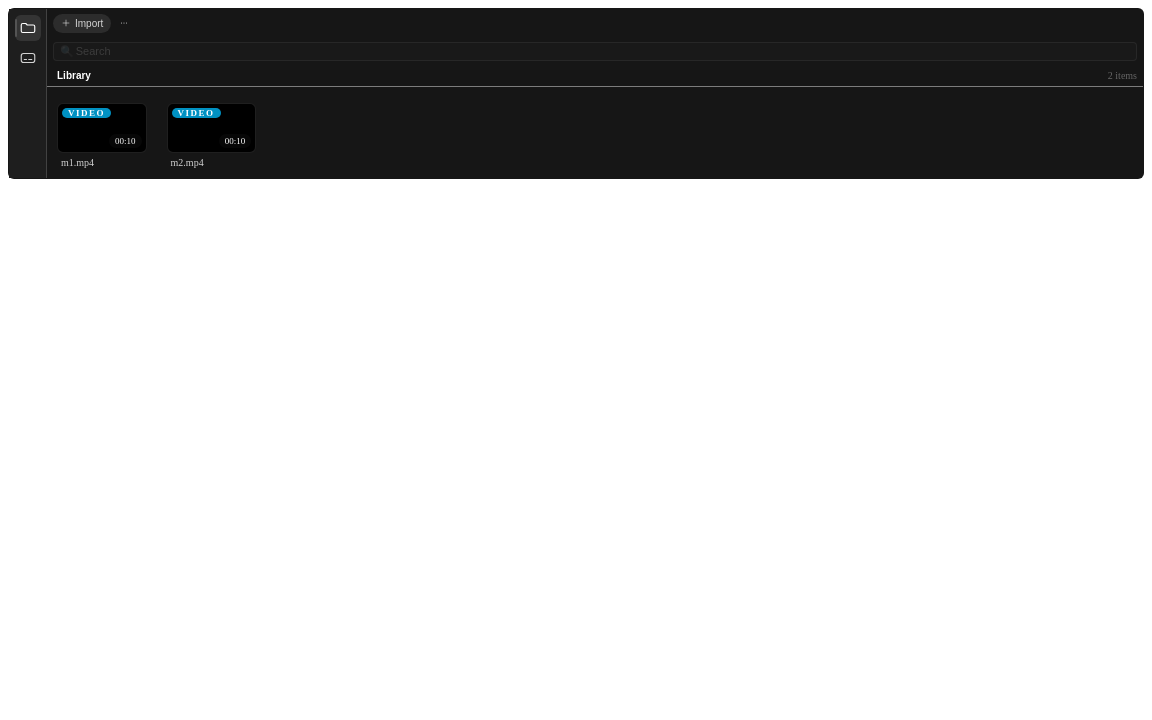
Scenario: MediaPanel: the Media/Captions tab bar switches the panel body
Click the button with test id "media-tab-captions" at (28, 58), box [15, 45, 41, 71]
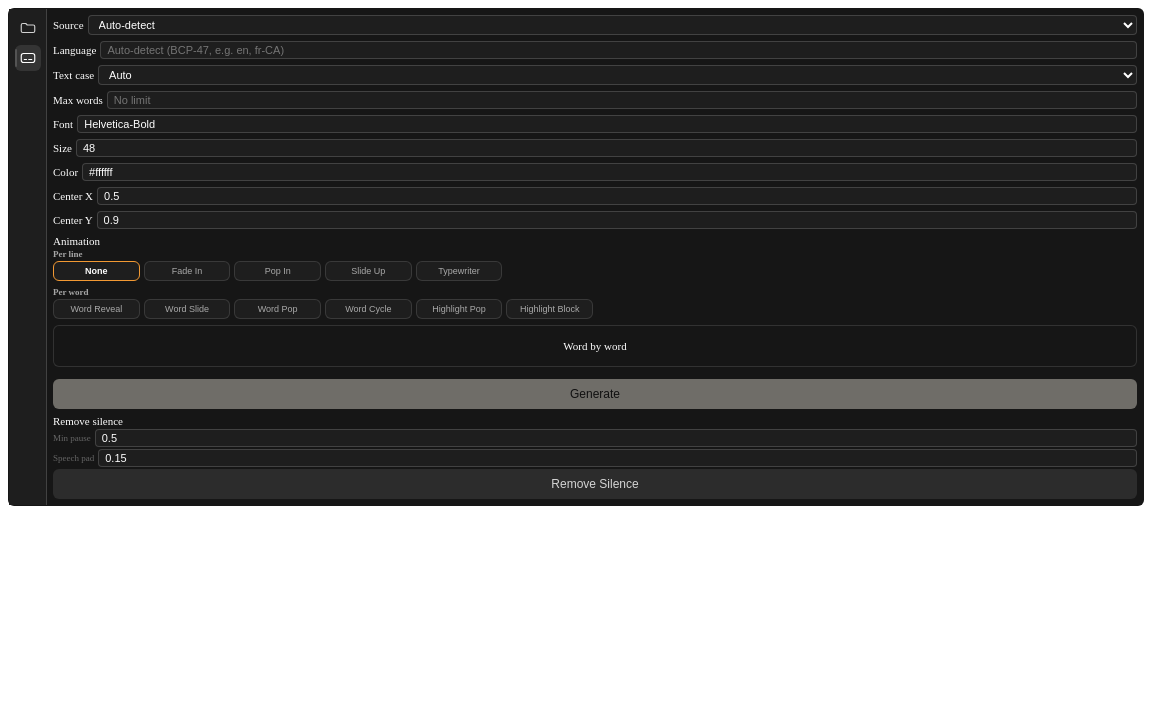
Now the element with test id "captions-tab" is shown
Click the button with test id "media-tab-media" at (28, 28), box [15, 15, 41, 41]
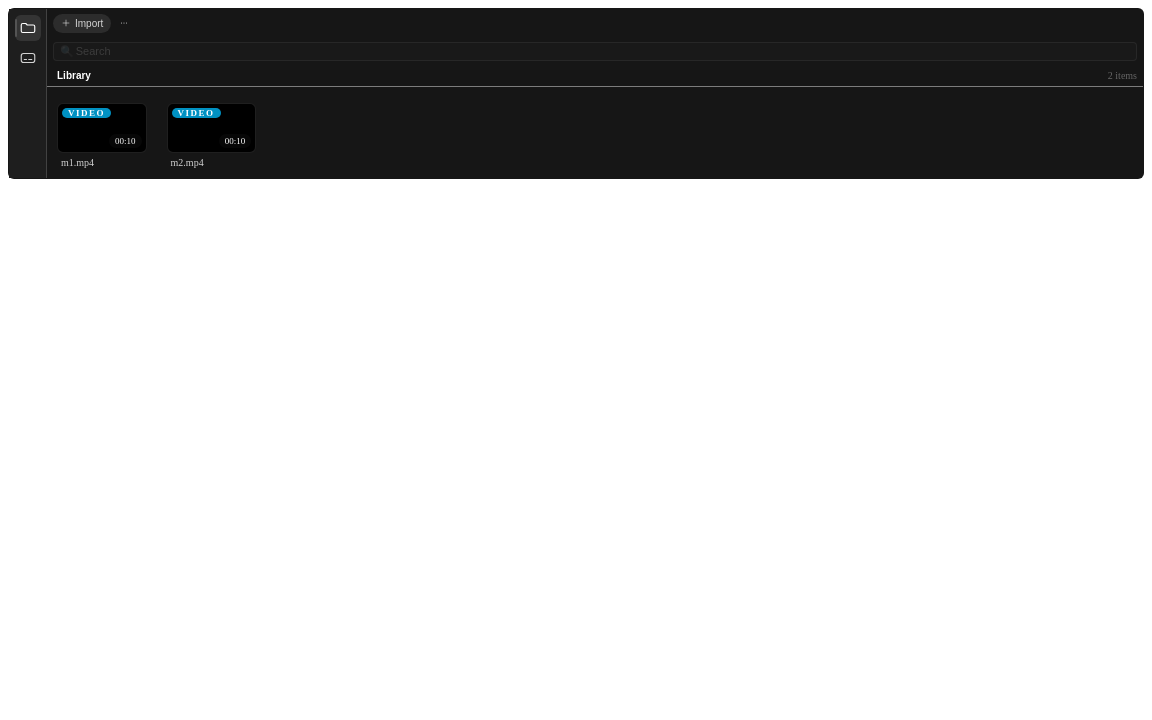
Now the element with test id "captions-tab" is gone
